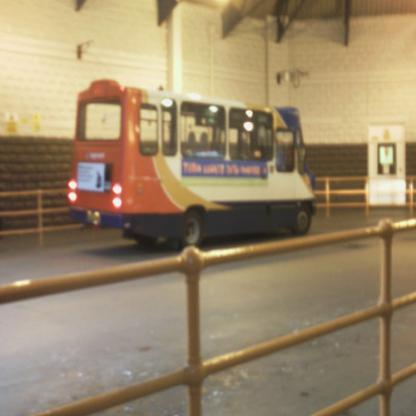bus: (63, 77, 317, 246)
